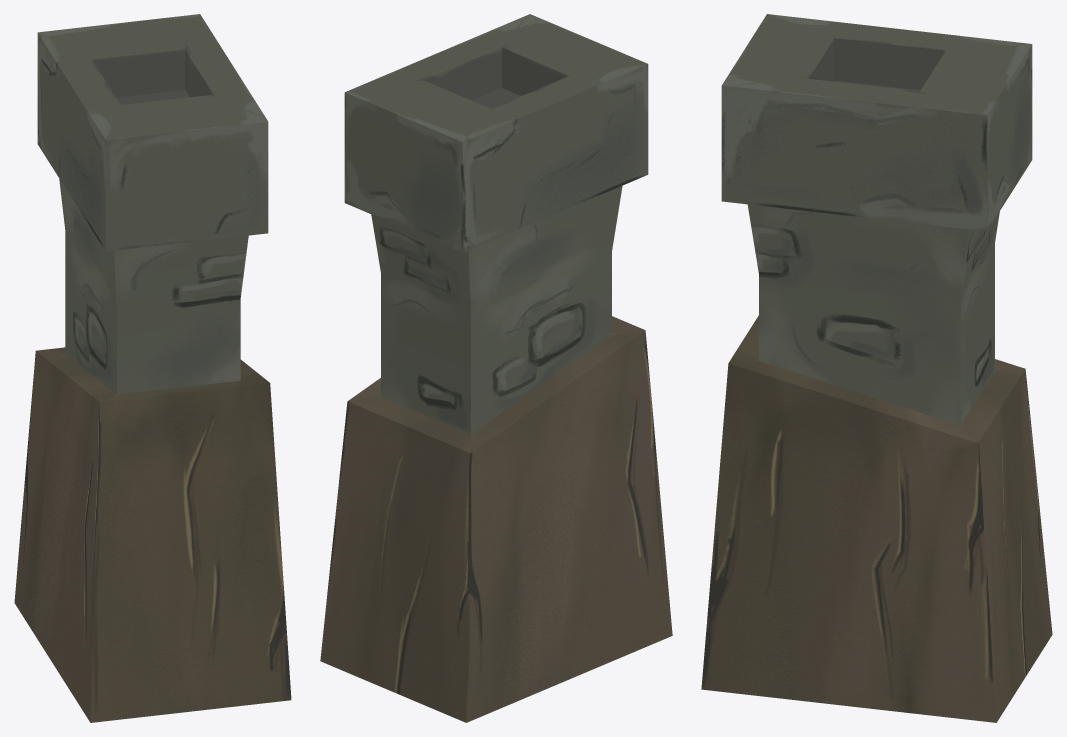
File: polysurface253_txt_chem1_0_lev1_lev2.glb
3 renders of one model, left to right at view 1: azimuth 30°, elevation 25°; view 2: azimuth 150°, elevation 25°; view 3: azimuth 270°, elevation 25°, orthographic. The views are drawn at different scales.
Visible parts, largest first — view 1: polysurface253_txt_chem1_0_lev1_lev2; view 2: polysurface253_txt_chem1_0_lev1_lev2; view 3: polysurface253_txt_chem1_0_lev1_lev2.
Boxes of the visible parts, x1,y1,x2,y2 form: polysurface253_txt_chem1_0_lev1_lev2: (14, 14, 291, 722); polysurface253_txt_chem1_0_lev1_lev2: (320, 14, 672, 722); polysurface253_txt_chem1_0_lev1_lev2: (701, 14, 1052, 722).
Bounding box in the file's own units: 1.26 × 2.87 × 1.53.
Materials: 1 (1 with a texture image).
